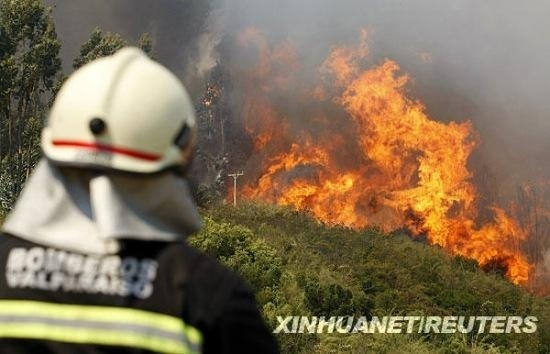fire: (234, 29, 548, 306)
